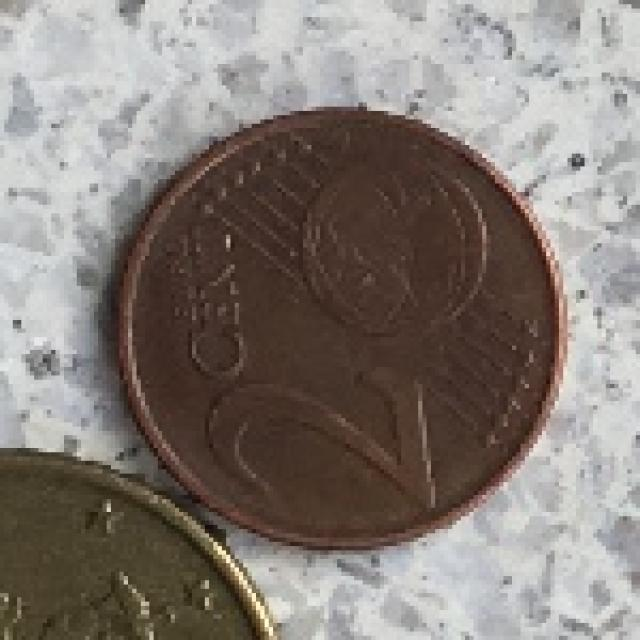2c: (98, 102, 568, 559)
